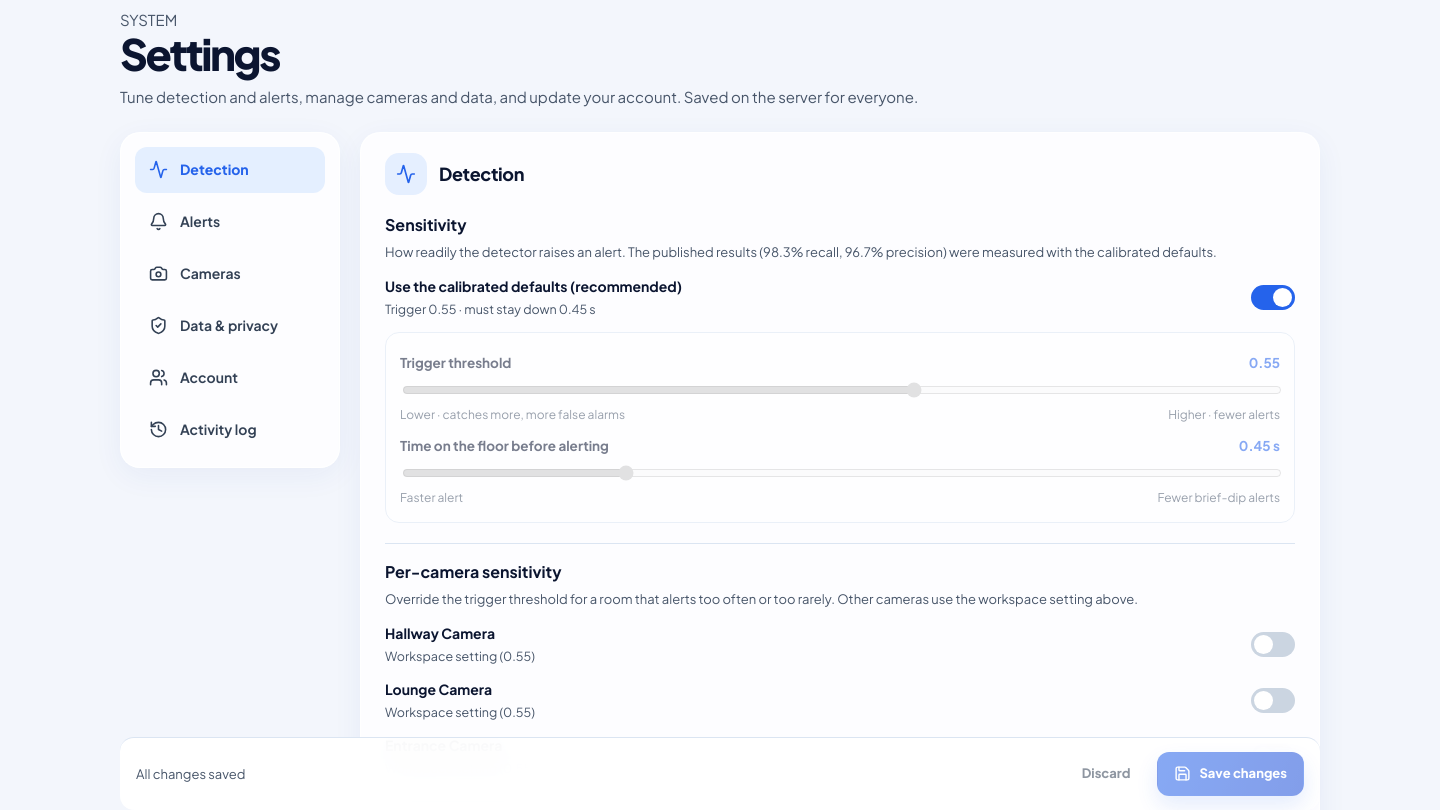
Test: Settings › saves a detection override to the server
Click the switch labelled "Use the calibrated defaults" at (534, 286), box 385,274 -> 1295,322
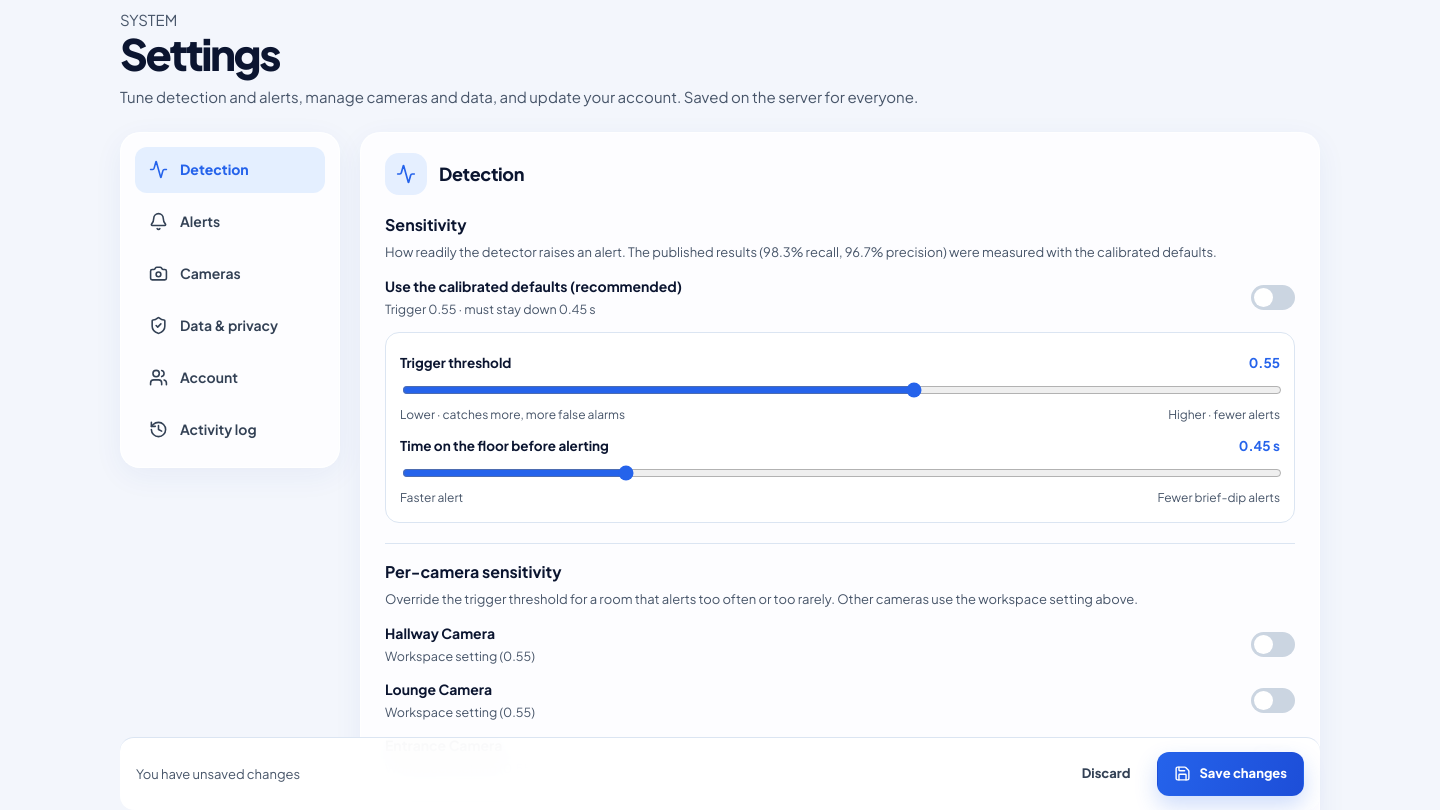
Set the slider labelled "Trigger threshold 0.55" to "0.7" at (1130, 390), box 402,382 -> 1282,398
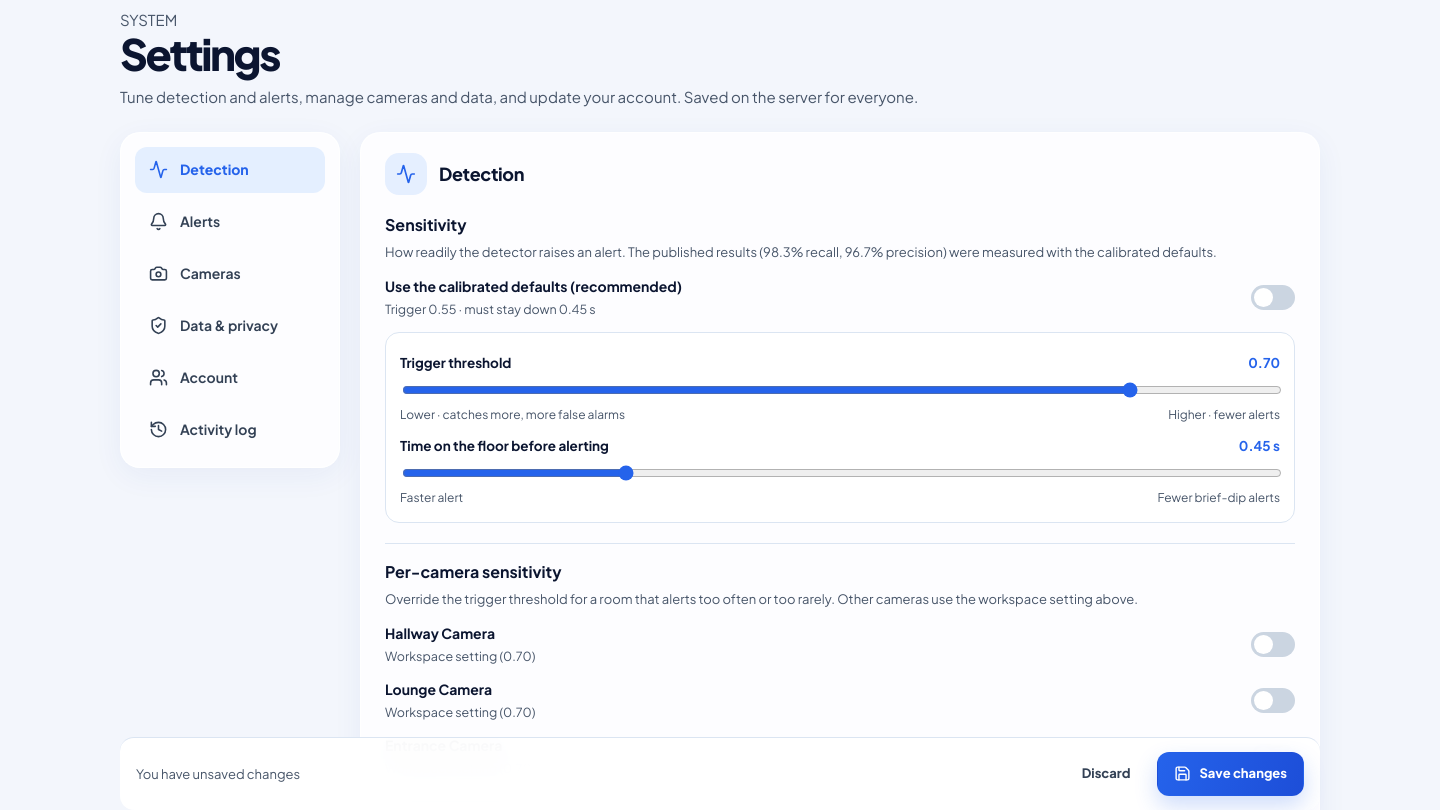
Check: the text "You have unsaved changes" is shown, box 136,764 -> 300,784
Click the button "Save changes" at (1231, 774), box 1158,752 -> 1304,796
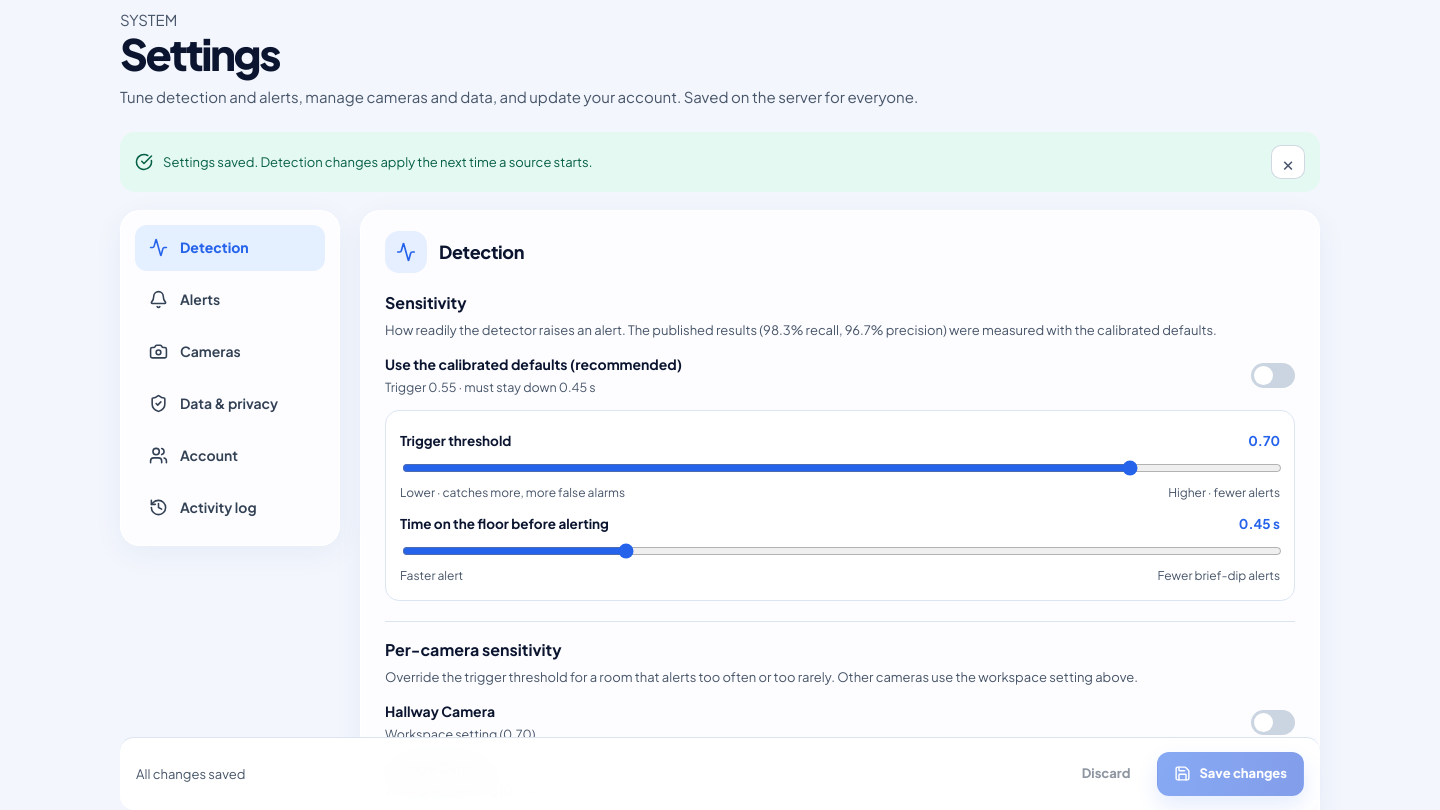
Check: the text "Settings saved" is shown, box 163,154 -> 592,170
